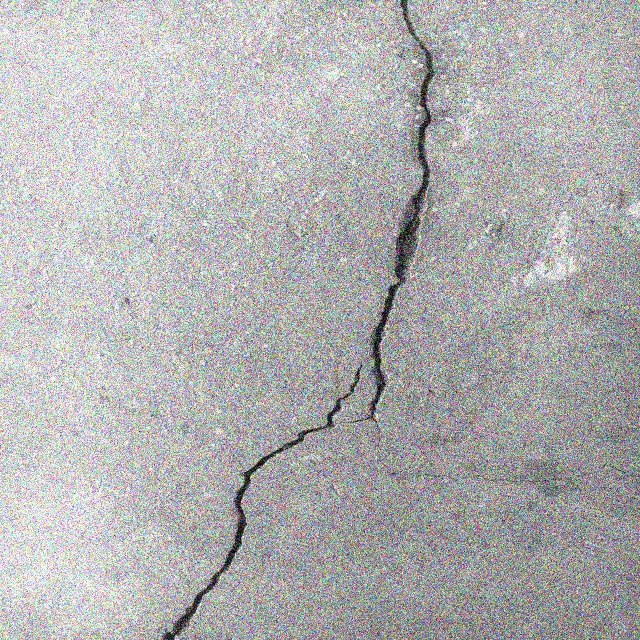SurfaceCrack: (108, 1, 467, 620)
